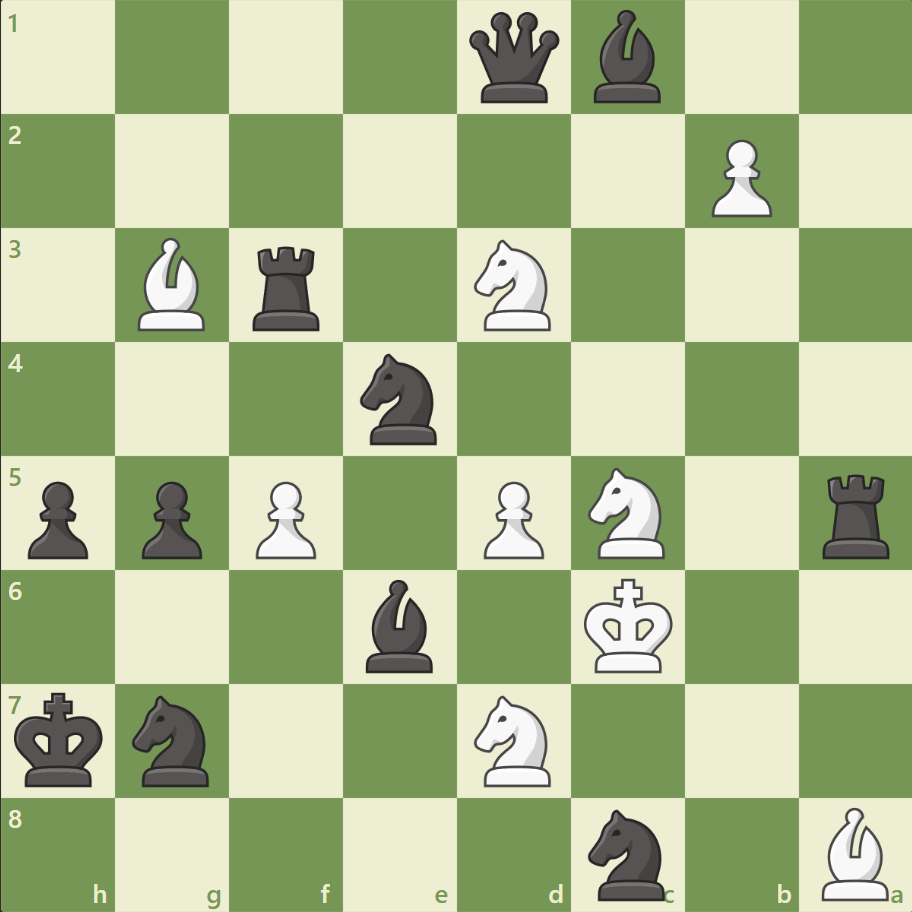B: (812, 801, 896, 904), (131, 233, 215, 336)
K: (579, 571, 679, 679)
N: (465, 688, 562, 791), (579, 461, 676, 564), (465, 234, 562, 337)
P: (474, 473, 549, 564), (247, 473, 322, 564), (701, 132, 776, 223)
b: (585, 6, 669, 109), (358, 574, 442, 676)
k: (11, 685, 111, 793)
n: (124, 688, 222, 791), (351, 348, 449, 450), (579, 802, 676, 904)
p: (133, 473, 208, 564), (20, 473, 95, 564)
q: (464, 9, 563, 108)
r: (814, 466, 897, 563), (246, 239, 329, 336)
